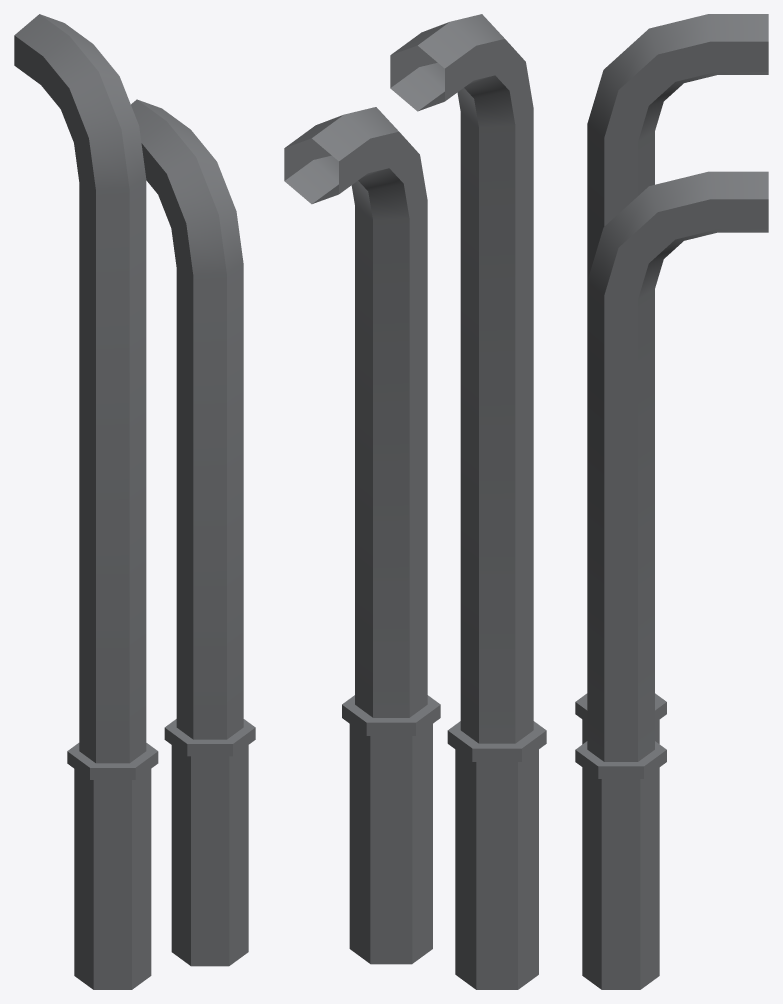
File: SM_pipe_06.fbx
3 views of the same model, side by side, from view 1: azimuth 30°, elevation 25°; view 2: azimuth 150°, elevation 25°; view 3: azimuth 270°, elevation 25° (orthographic). The views are drawn at different scales.
Parts seen in each view (by area): view 1: Line002; view 2: Line002; view 3: Line002.
Boxes of the visible parts, x1,y1,x2,y2 form: Line002: (14, 14, 255, 989); Line002: (284, 14, 546, 989); Line002: (575, 14, 768, 989).
Size of the model in its own units: 12.84 by 12.89 by 67.29.
